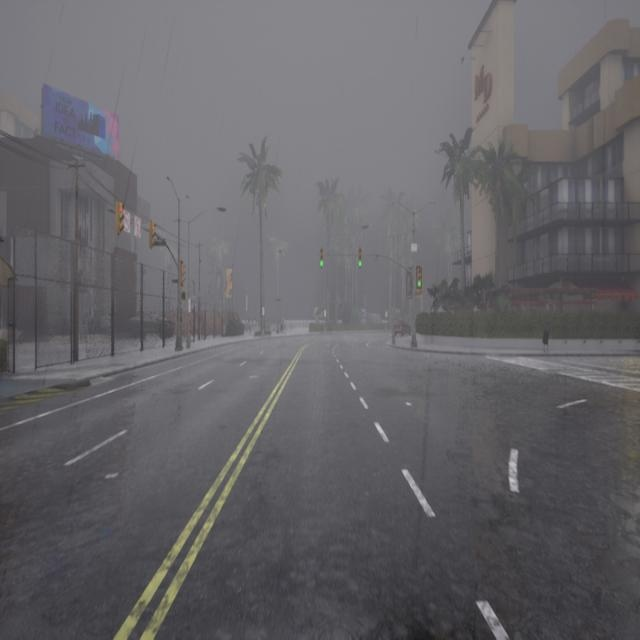bien_chi_dan: (114, 198, 124, 238), (414, 265, 424, 292), (179, 258, 186, 288), (149, 221, 156, 250), (317, 246, 325, 270), (357, 245, 363, 269), (116, 202, 124, 214), (317, 258, 324, 271), (180, 260, 186, 272), (356, 258, 362, 269), (416, 280, 422, 290), (148, 223, 155, 231)
